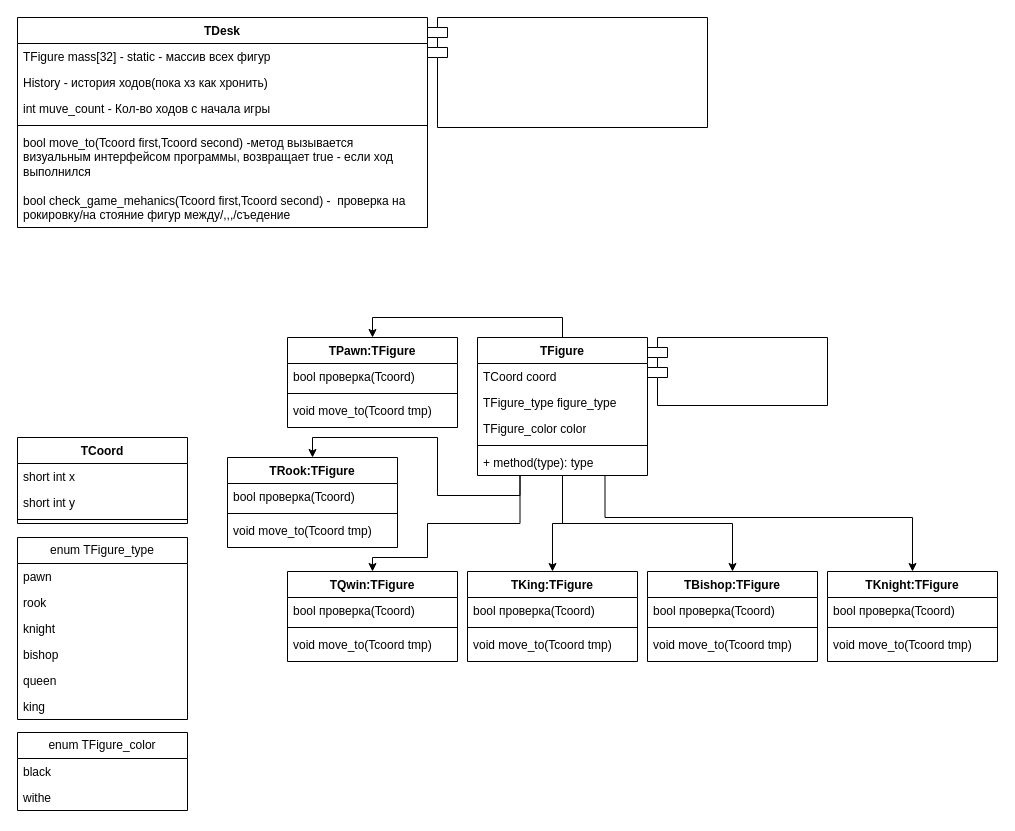
The diagram is 1015 pixels wide and 831 high, and some of its shapes have lost their labels. Each missing label, with the centre of its shape:
Доп примочки 1- Tcoord* get_list_coord(Tcoord first) 2- ...: the point at 567,72
Доп примочки 1- поставить флаг на существование: the point at 737,371
